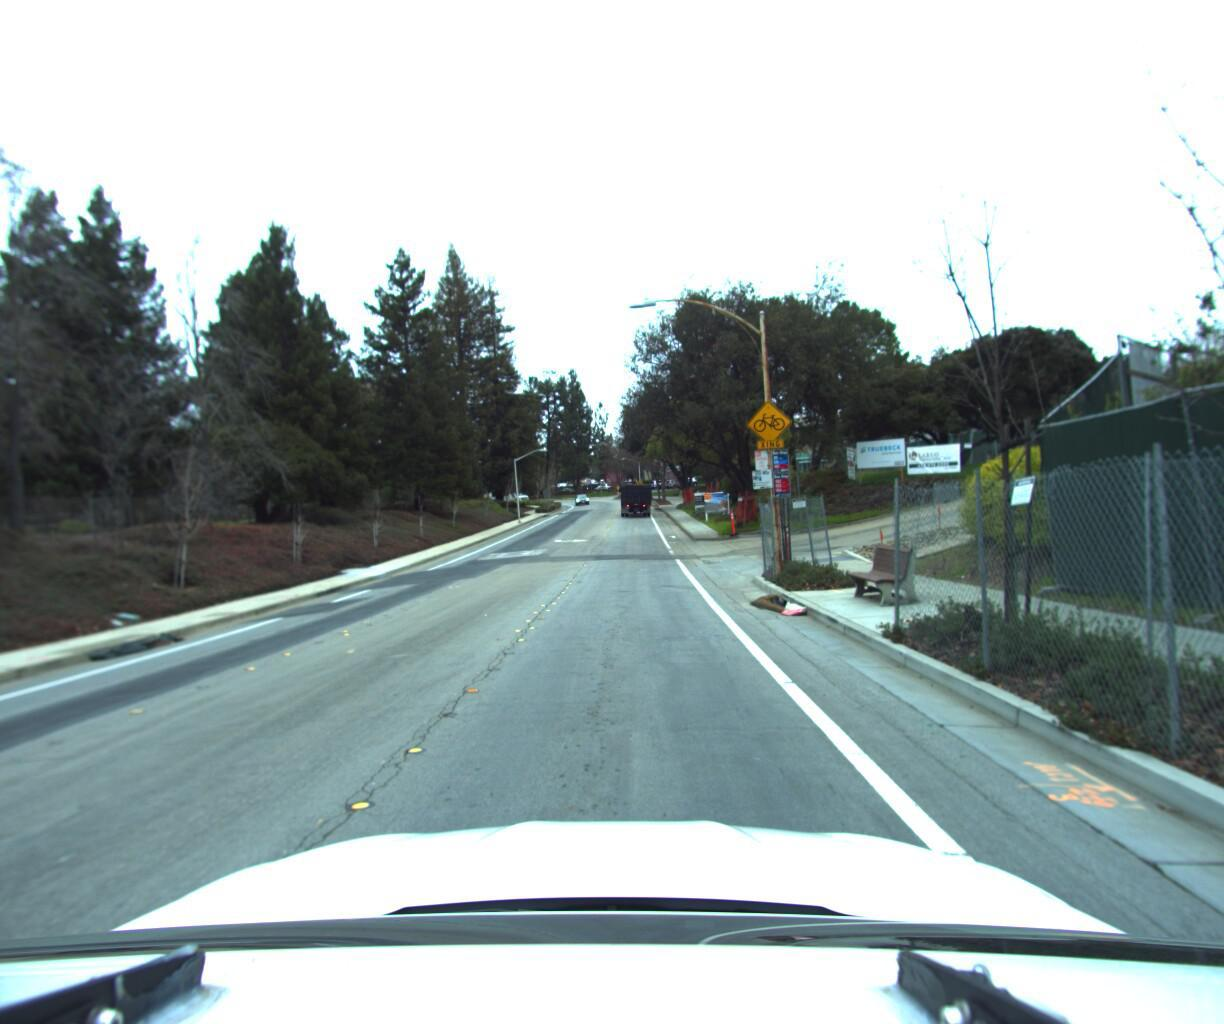truck: (617, 471, 655, 517)
